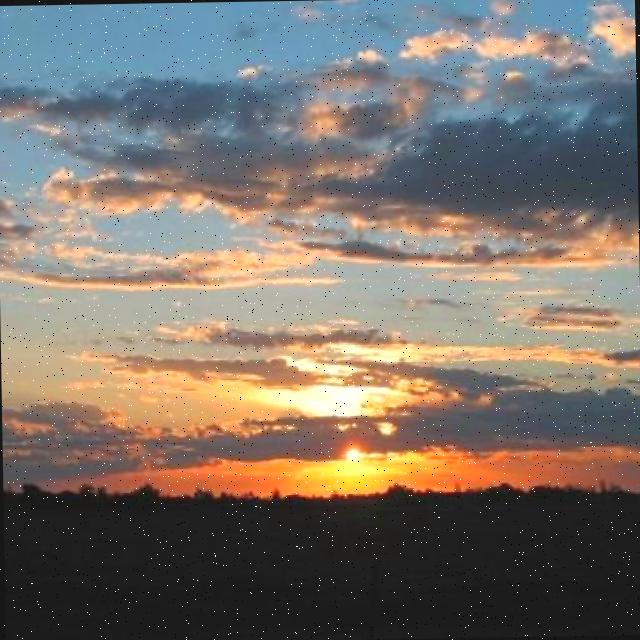Ac: (1, 48, 640, 464)
